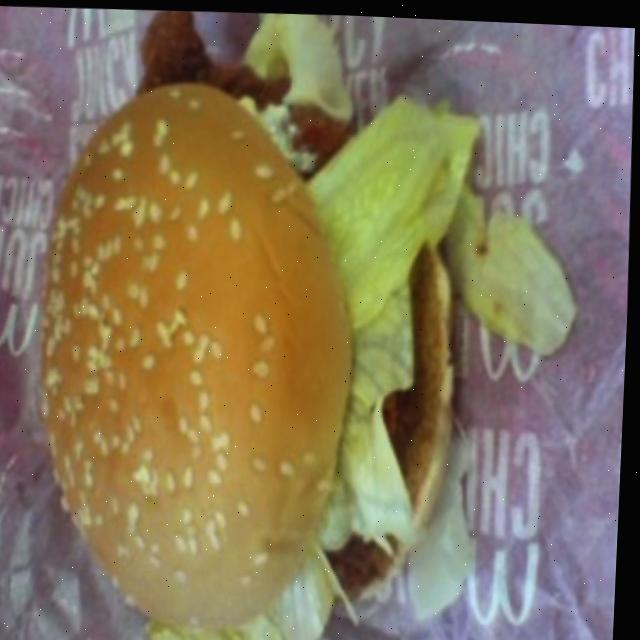汉堡快餐: (21, 2, 592, 640)
